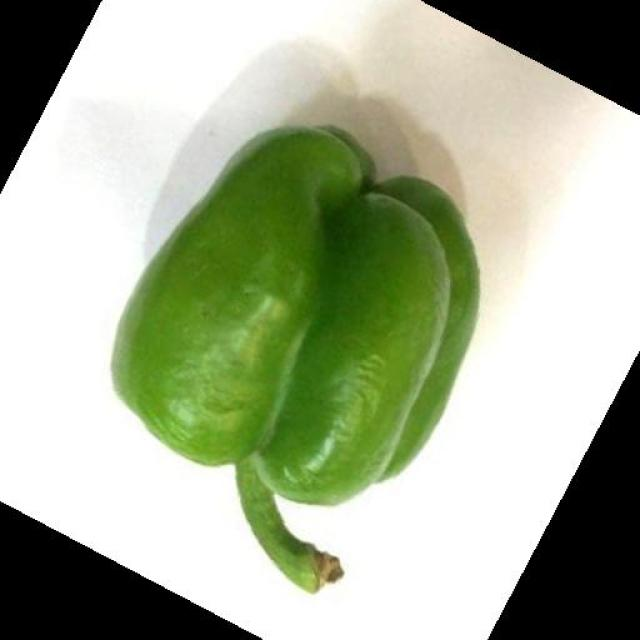Fresh_Capsicum: (106, 72, 441, 530)
